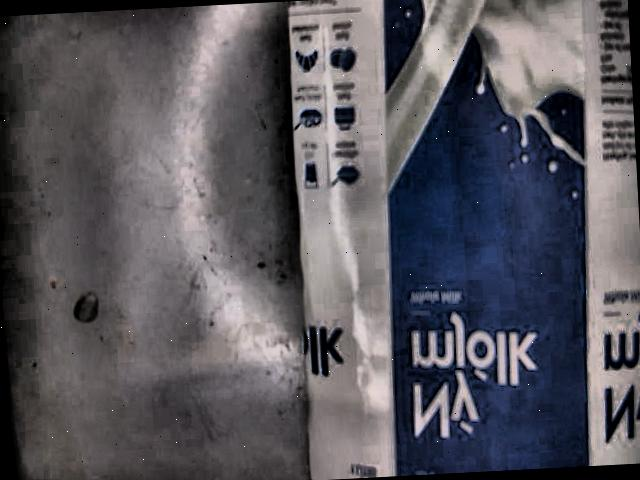Paper: (287, 0, 640, 480)
